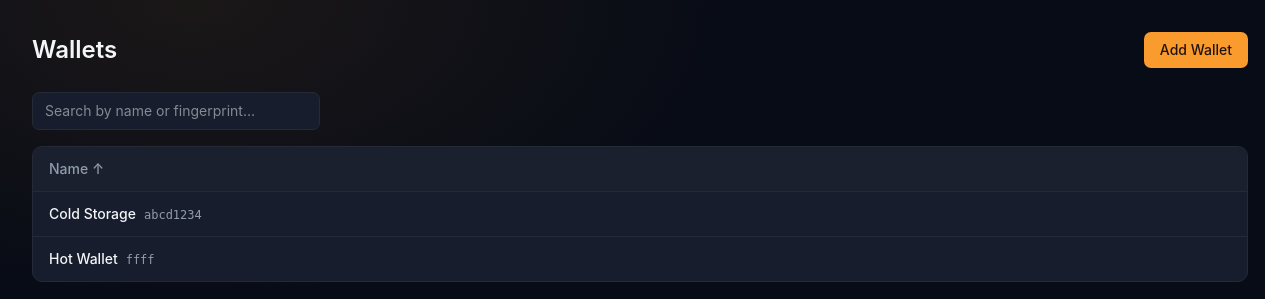
Test: WalletsPage › filters the list via the search box
Expected: the link "Cold Storage" is shown, [49, 205, 136, 222]
Type "hot" into the search field named "search wallets" at (176, 111), box [32, 92, 320, 130]
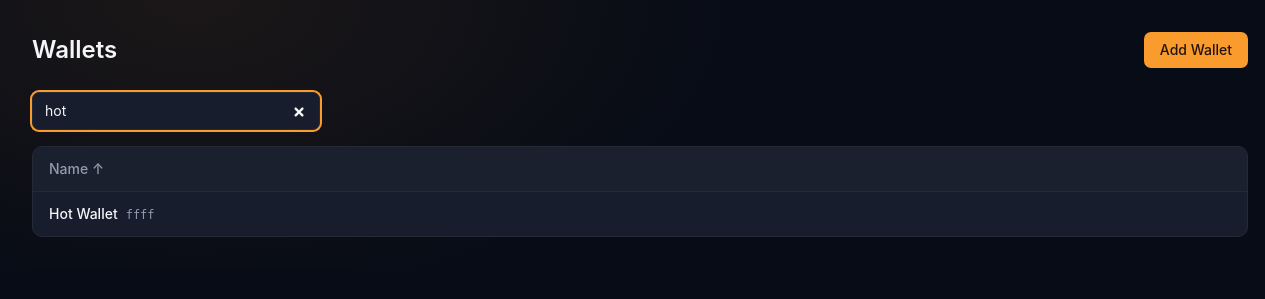
Expected: the link "Hot Wallet" is shown, [49, 205, 118, 222]
Now the link "Cold Storage" is gone
